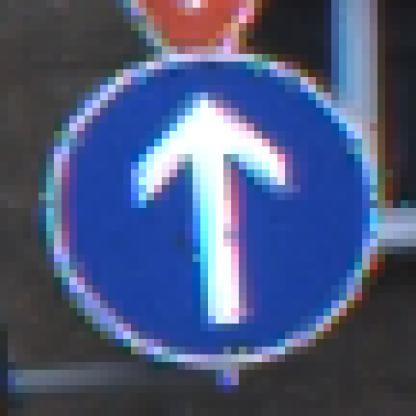AheadOnly: (47, 47, 379, 379)
